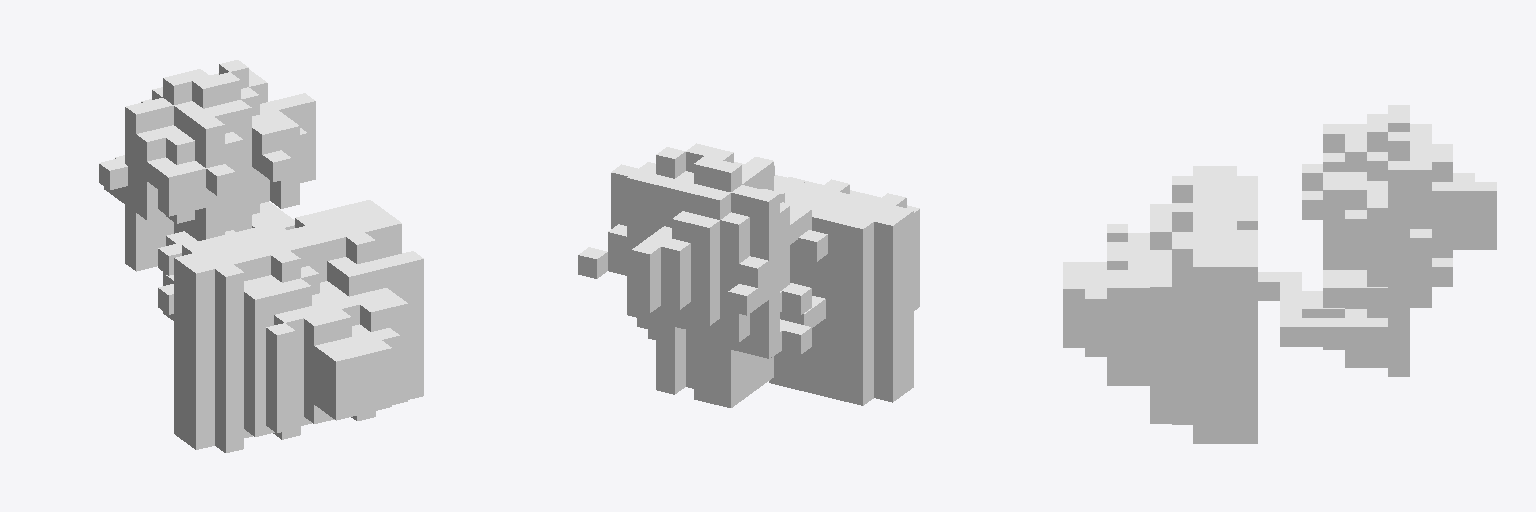
Rendered from attacker5.obj.
The picture shows the model from 3 angles: view 1: azimuth 30°, elevation 25°; view 2: azimuth 150°, elevation 25°; view 3: azimuth 270°, elevation 25°; orthographic projection.
Parts seen in each view (by area): view 1: object 1; view 2: object 1; view 3: object 1.
Boxes of the visible parts, <box> form: object 1: <box>99,60,423,452</box>; object 1: <box>578,143,919,407</box>; object 1: <box>1063,105,1496,443</box>.
Bounding box in the file's own units: 1.1 × 1.4 × 2.